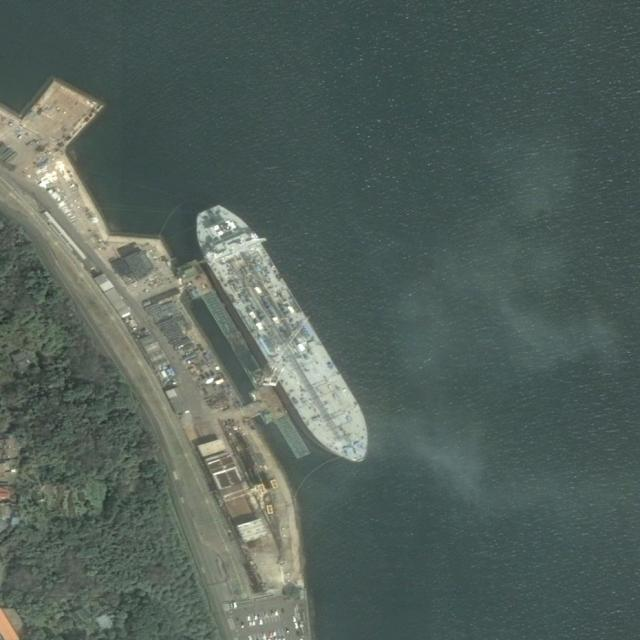Oil Tanker: (182, 191, 390, 478)
